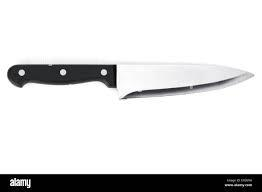Knife: (7, 62, 254, 99)
